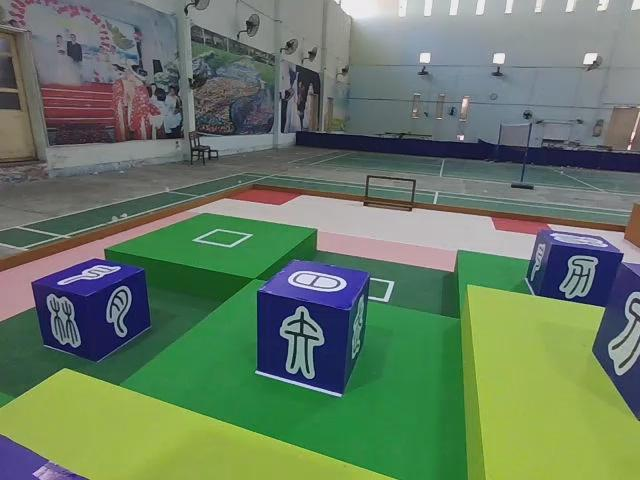R2 Fake Blue: (259, 258, 374, 399), (30, 261, 150, 366), (524, 230, 625, 310), (593, 259, 640, 427)
